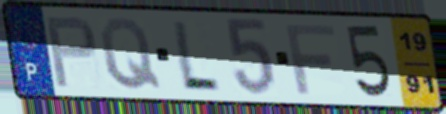5: (222, 16, 278, 100), (344, 23, 392, 100)
F: (283, 23, 338, 97)
L: (170, 18, 223, 94)
P: (43, 14, 100, 90)
Q: (97, 15, 164, 92)
